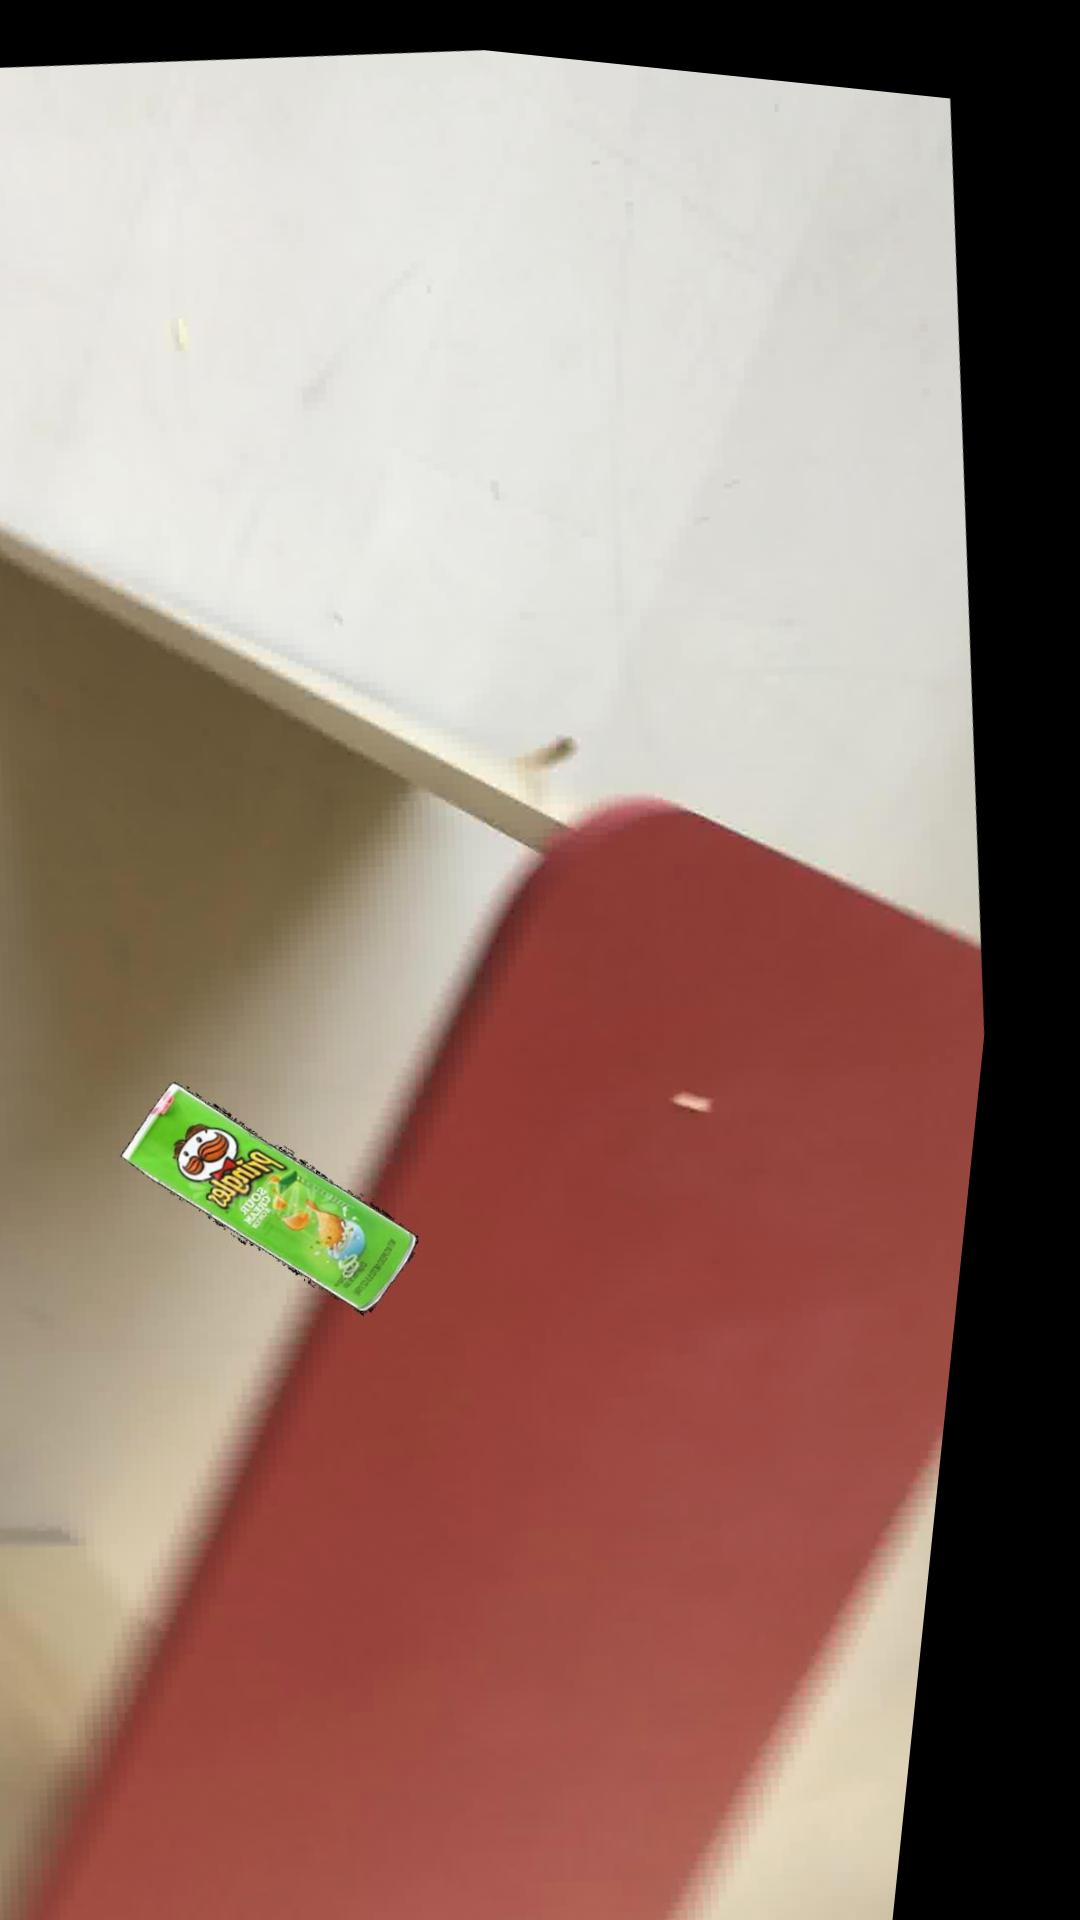pringles: (142, 1076, 442, 1305)
